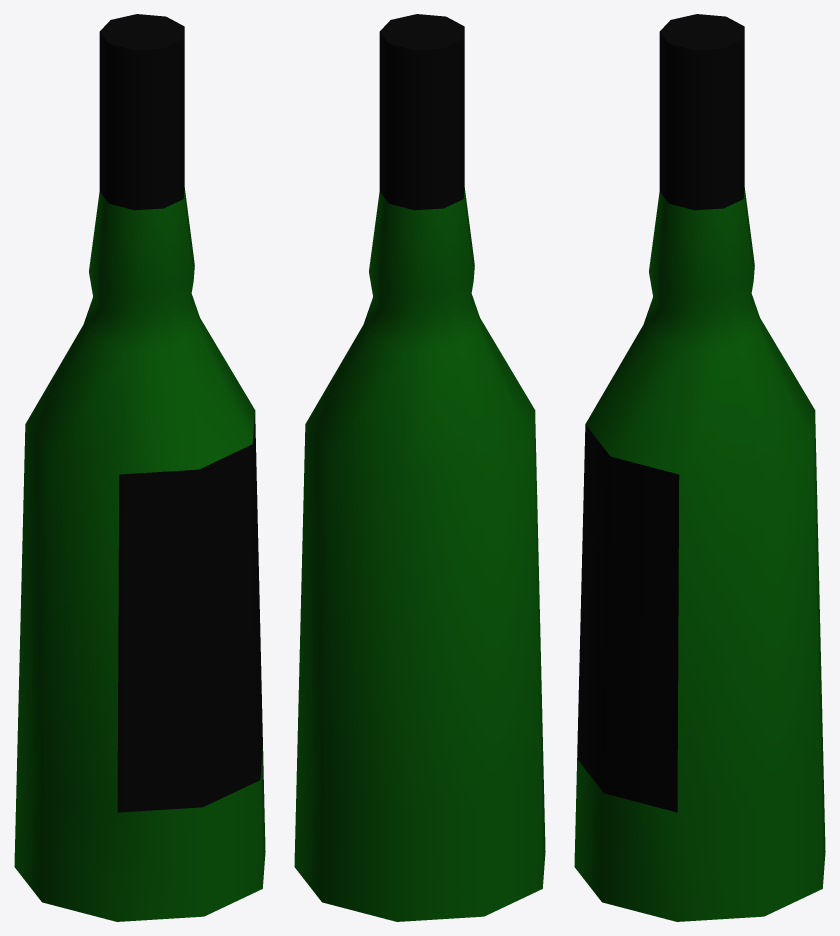
The model's file is jug16.FBX.
3 views of the same model, side by side, from view 1: azimuth 30°, elevation 25°; view 2: azimuth 150°, elevation 25°; view 3: azimuth 270°, elevation 25° (orthographic).
Visible parts, largest first — view 1: SM_jug16_0; view 2: SM_jug16_0; view 3: SM_jug16_0.
Part boxes in pixels (<box>): SM_jug16_0: <box>14,14,265,921</box>; SM_jug16_0: <box>294,14,545,921</box>; SM_jug16_0: <box>574,14,825,921</box>.
Bounding box in the file's own units: 10.88 × 10.77 × 39.6.
